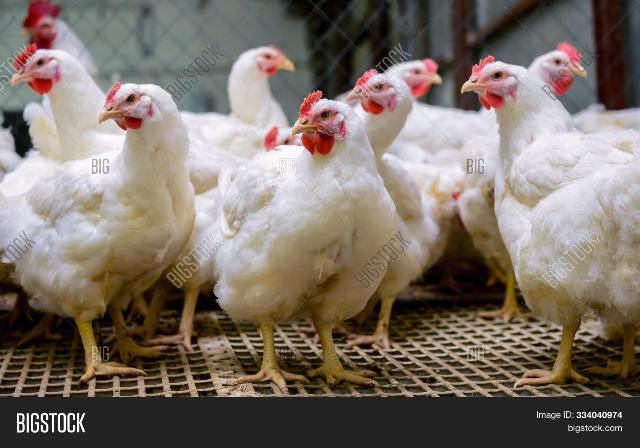Chicken: (459, 53, 640, 387), (2, 82, 197, 382), (214, 91, 396, 391), (346, 68, 426, 351), (11, 45, 128, 161), (191, 45, 299, 159), (24, 0, 100, 75), (527, 41, 587, 96), (383, 56, 443, 102)
